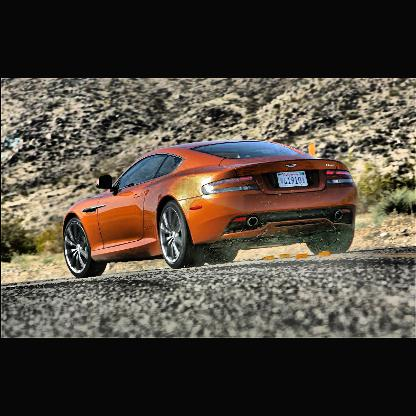Aston Martin Virage Coupe 2012: (61, 139, 361, 280)
